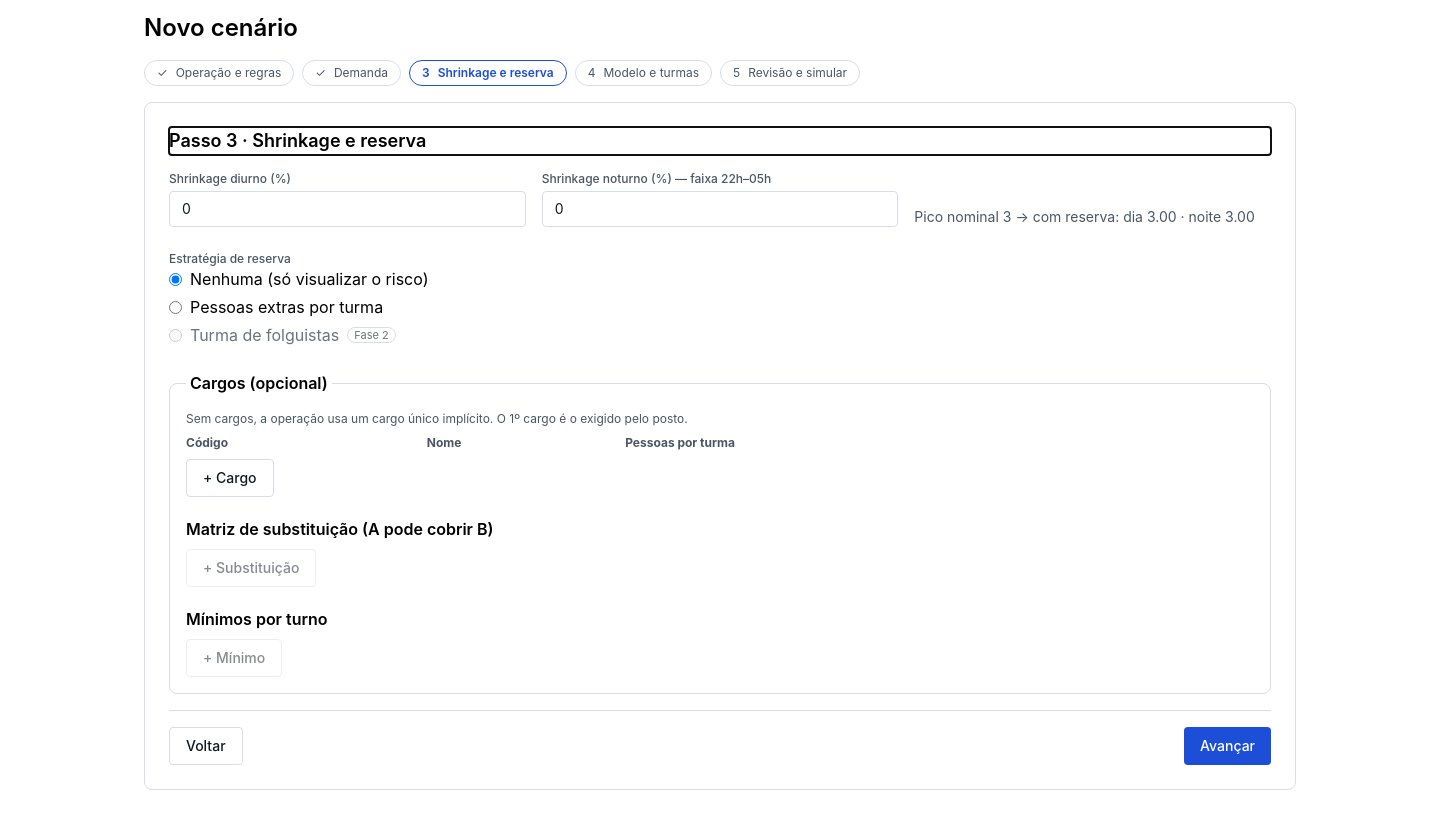
Wizard de 5 passos (A26/A47) › passo 3: shrinkage ≥ 60% é inválido
Replace the text in the number field labelled "Shrinkage diurno (%)" with "65" at coordinates (347, 209), box [169, 191, 526, 227]
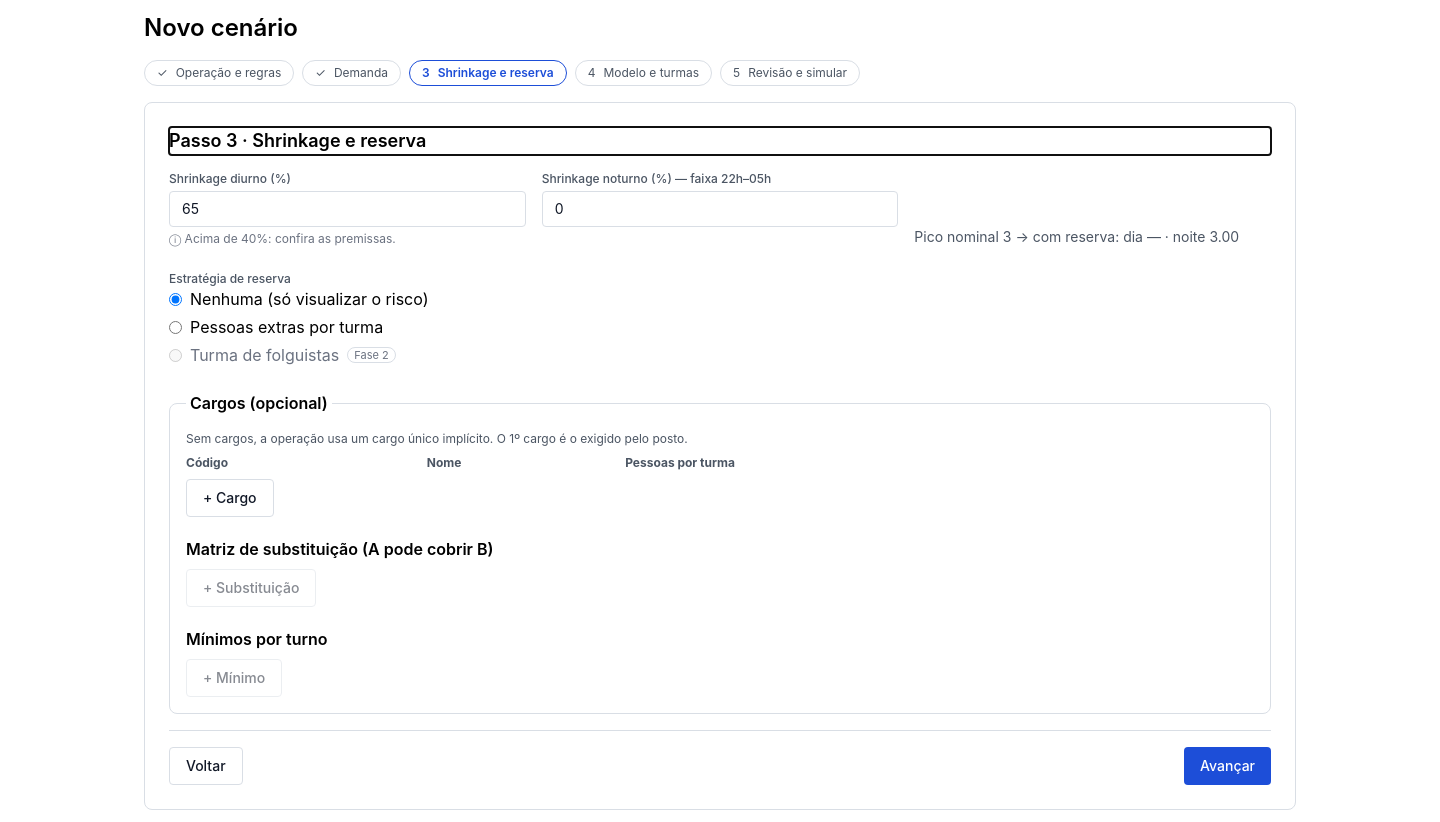
Click the button "Avançar" at coordinates (1228, 766), box [1184, 747, 1271, 785]
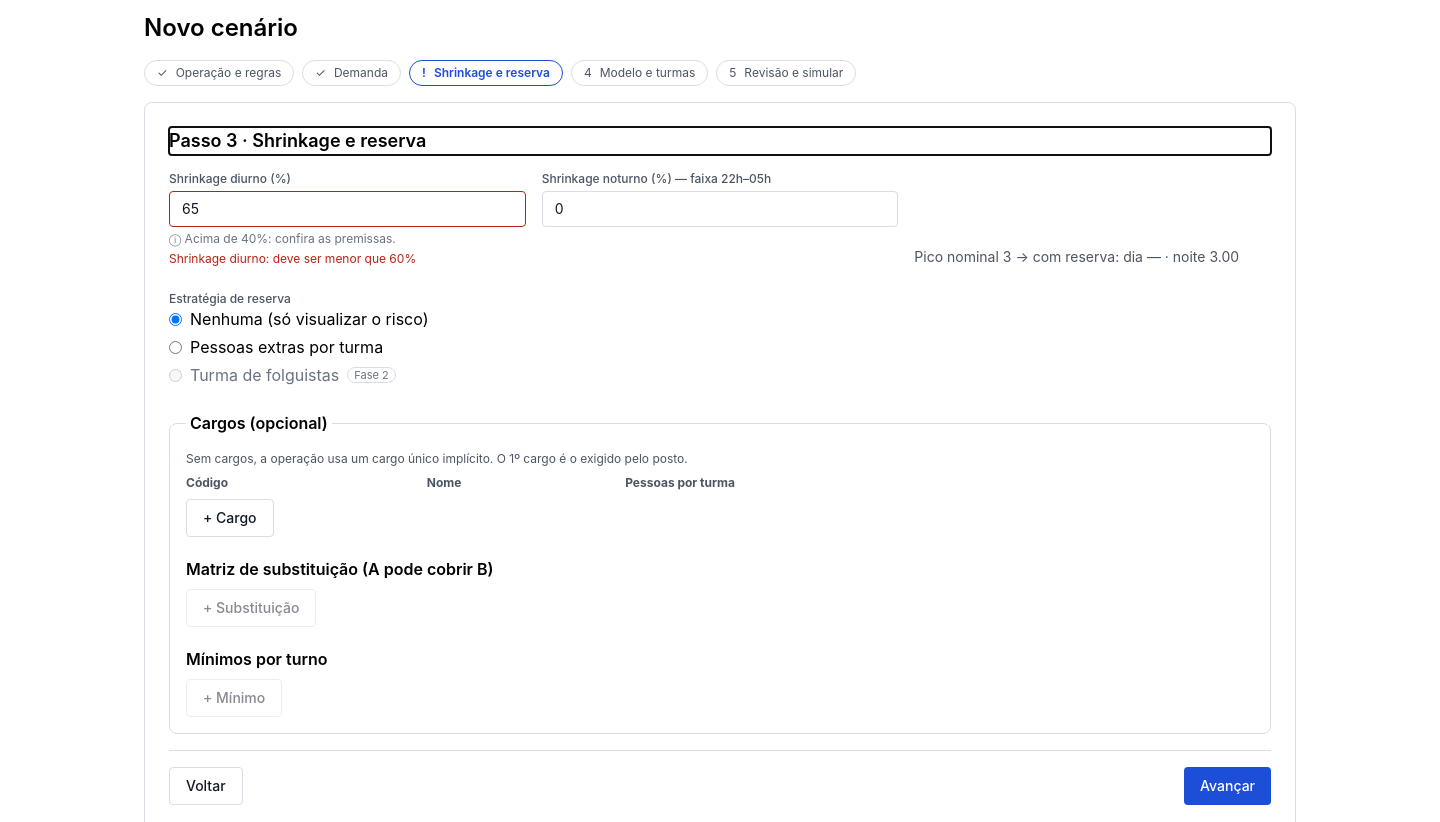
Now the text "Shrinkage diurno: deve ser menor que 60%" is shown, box [169, 251, 416, 266]
